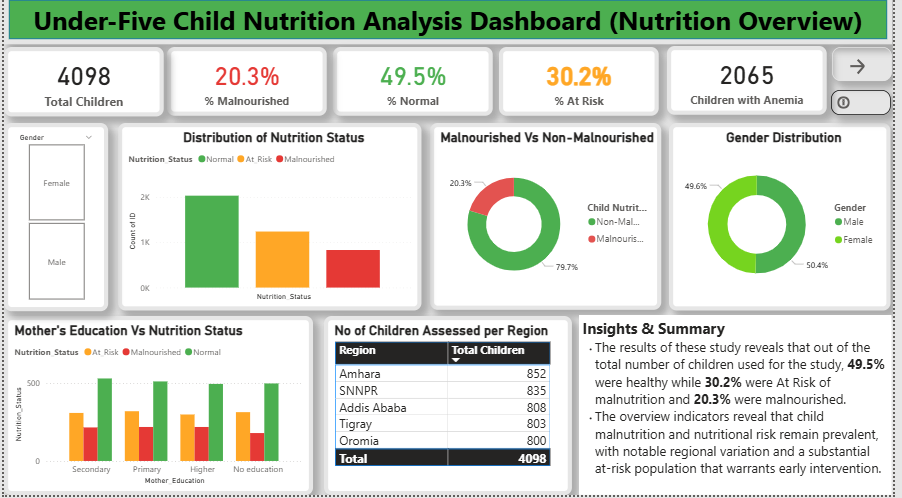

This screenshot's page, from the dashboard's own definition file:
{"tool":"powerbi","page":{"name":"Nutrition Overview","canvas":[1280,720],"ordinal":0},"visuals":[{"type":"shape","title":"Under-Five Child Nutrition Analysis Dashboard","box":[0,0,1278.7,70.6],"z":0},{"type":"card","title":"% Normal","fields":{"Values":["malnutrition_children_ethiopia.% Normal"]},"box":[474,74.9,230.4,99.4],"z":1000},{"type":"card","title":"% Malnourished","fields":{"Values":["malnutrition_children_ethiopia.% Malnourished"]},"box":[234.7,74.9,230.4,99.4],"z":2000},{"type":"card","title":"% At Risk","fields":{"Values":["malnutrition_children_ethiopia.% At Risk"]},"box":[712.8,74.9,230.4,99.4],"z":3000},{"type":"card","fields":{"Values":["malnutrition_children_ethiopia.Total Children"]},"box":[0,74.6,230.2,100],"z":4000},{"type":"card","fields":{"Values":["Sum(malnutrition_children_ethiopia.Anemia)"]},"box":[955,74,230.4,99.4],"z":5000},{"type":"donutChart","title":"Malnourished Vs Non-Malnourished","fields":{"Y":["CountNonNull(malnutrition_children_ethiopia.Child Nutrition)"],"Category":["malnutrition_children_ethiopia.Child Nutrition"]},"box":[613,184.3,332.6,269.3],"z":6000},{"type":"columnChart","title":"Distribution of Nutrition Status","fields":{"Category":["malnutrition_children_ethiopia.Nutrition_Status"],"Y":["CountNonNull(malnutrition_children_ethiopia.ID)"],"Series":["malnutrition_children_ethiopia.Nutrition_Status"]},"box":[164,184.3,437,270],"z":7000},{"type":"clusteredColumnChart","title":"Mother''s Education Vs Nutrition Status","fields":{"Category":["malnutrition_children_ethiopia.Mother_Education"],"Y":["CountNonNull(malnutrition_children_ethiopia.Nutrition_Status)"],"Series":["malnutrition_children_ethiopia.Nutrition_Status"]},"box":[0,462.2,445,257.8],"z":8000},{"type":"donutChart","title":"Gender Distribution","fields":{"Category":["malnutrition_children_ethiopia.Gender"],"Y":["CountNonNull(malnutrition_children_ethiopia.ID)"]},"box":[957,184.3,319,270],"z":9000},{"type":"tableEx","title":"No of Children Assessed per Region","fields":{"Values":["malnutrition_children_ethiopia.Region","malnutrition_children_ethiopia.Total Children"]},"box":[460.8,462.2,357.1,257.8],"z":10000},{"type":"slicer","fields":{"Values":["malnutrition_children_ethiopia.Gender"]},"box":[0,184.3,149.8,270.7],"z":11000},{"type":"actionButton","box":[1192.3,74.9,86.4,49],"z":12000},{"type":"actionButton","box":[1190.9,136.8,86.4,36],"z":13000},{"type":"textbox","box":[828.6,461.4,450,258.6],"z":14000}]}

Visuals, with their boxes in screenshot pixels (x1, y1, x2, y2), scaled from the page's 1280x720 canvas onto the 902x498 screenshot:
"Under-Five Child Nutrition Analysis Dashboard" shape: <region>0, 0, 901, 49</region>
"% Normal" card: <region>334, 52, 496, 121</region>
"% Malnourished" card: <region>165, 52, 328, 121</region>
"% At Risk" card: <region>502, 52, 665, 121</region>
card - malnutrition_children_ethiopia.Total Children: <region>0, 52, 162, 121</region>
card - Sum(malnutrition_children_ethiopia.Anemia): <region>673, 51, 835, 120</region>
"Malnourished Vs Non-Malnourished" donutChart: <region>432, 127, 666, 314</region>
"Distribution of Nutrition Status" columnChart: <region>116, 127, 424, 314</region>
"Mother''s Education Vs Nutrition Status" clusteredColumnChart: <region>0, 320, 314, 497</region>
"Gender Distribution" donutChart: <region>674, 127, 899, 314</region>
"No of Children Assessed per Region" tableEx: <region>325, 320, 576, 497</region>
slicer - malnutrition_children_ethiopia.Gender: <region>0, 127, 106, 315</region>
actionButton: <region>840, 52, 901, 86</region>
actionButton: <region>839, 95, 900, 120</region>
textbox: <region>584, 319, 901, 497</region>
